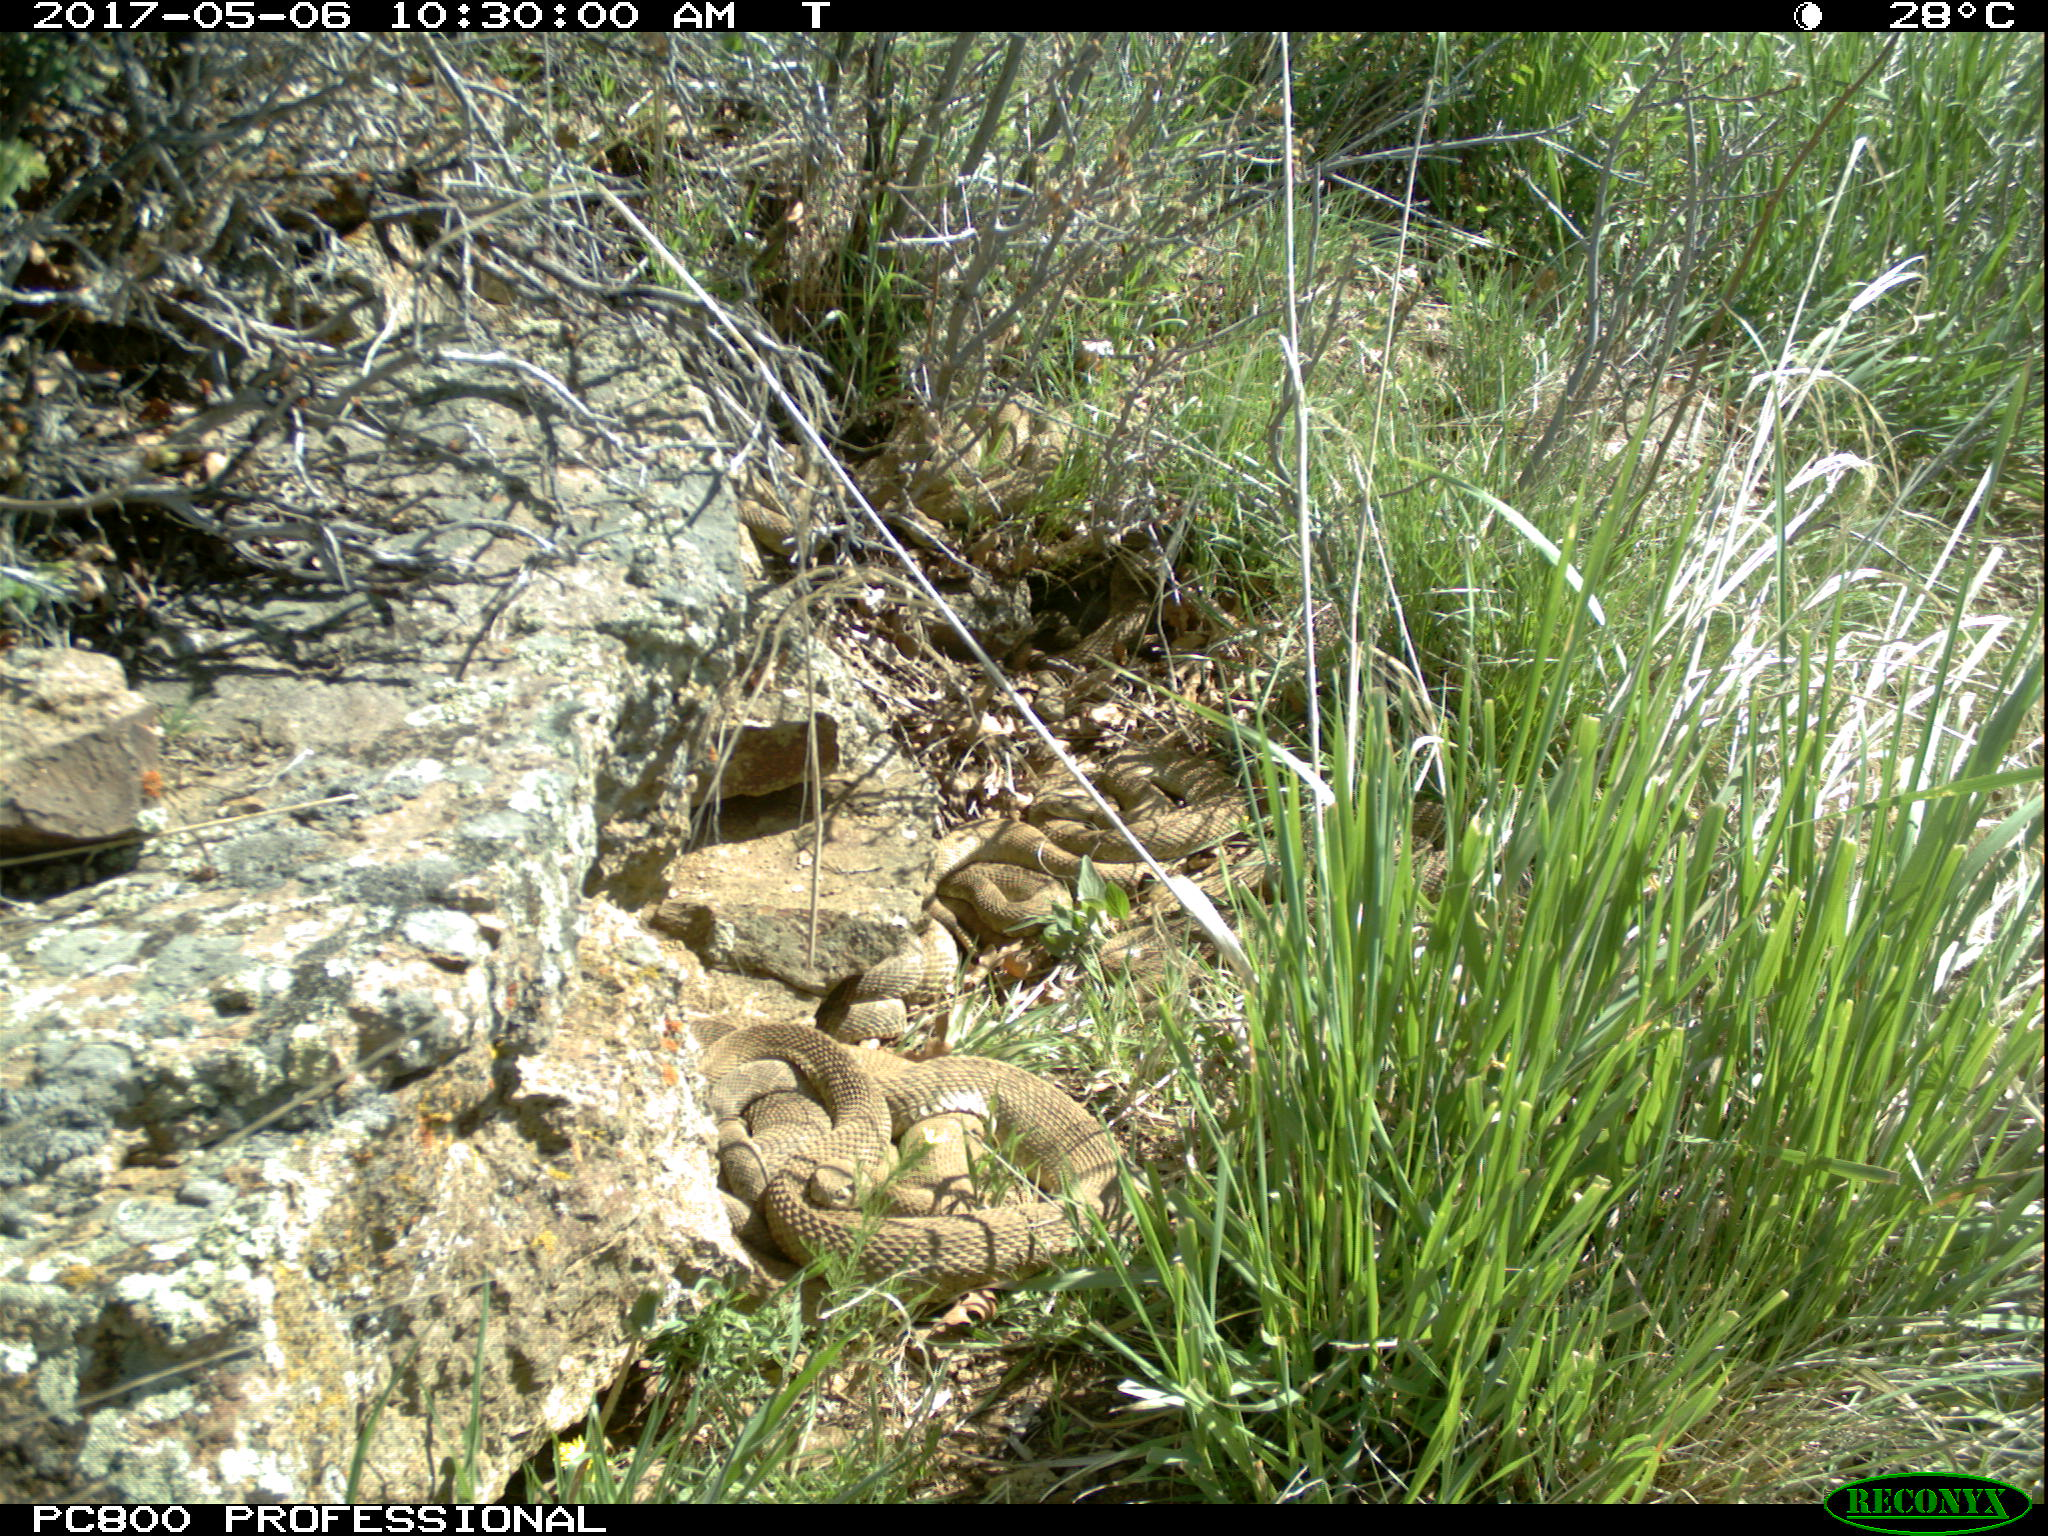snake: (705, 1025, 1150, 1292), (940, 745, 1292, 937), (885, 403, 1103, 513), (834, 921, 1005, 1050), (734, 482, 847, 563)
